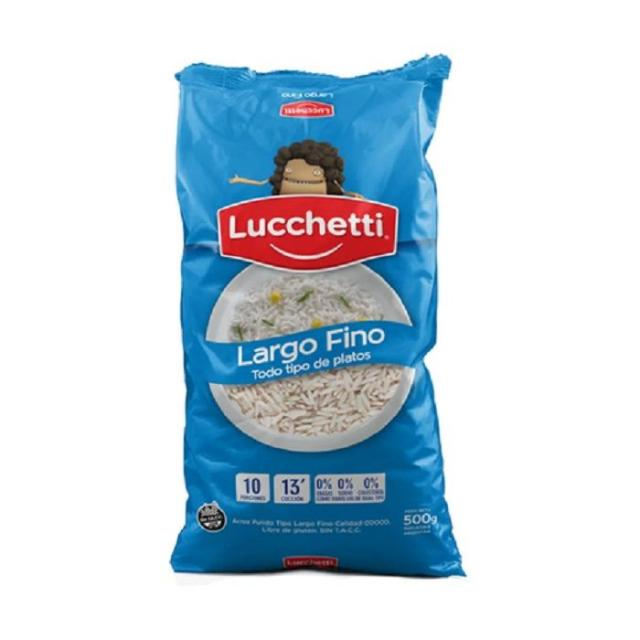Paquete: (167, 49, 467, 579)
